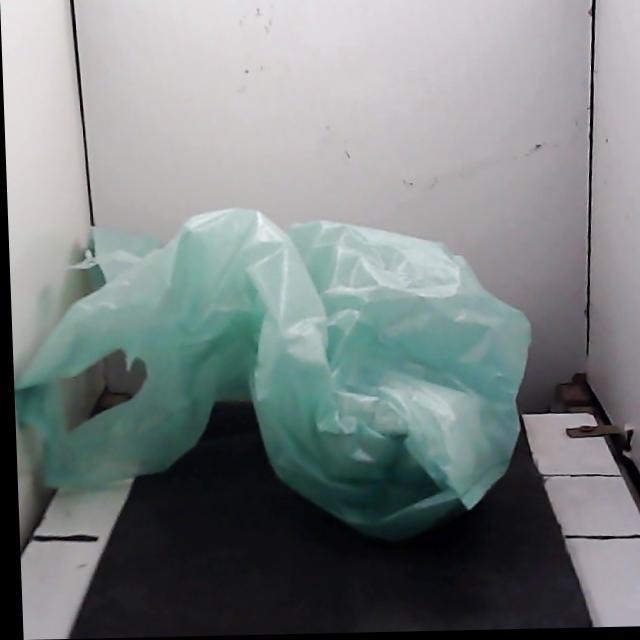plastico: (15, 209, 529, 537)
